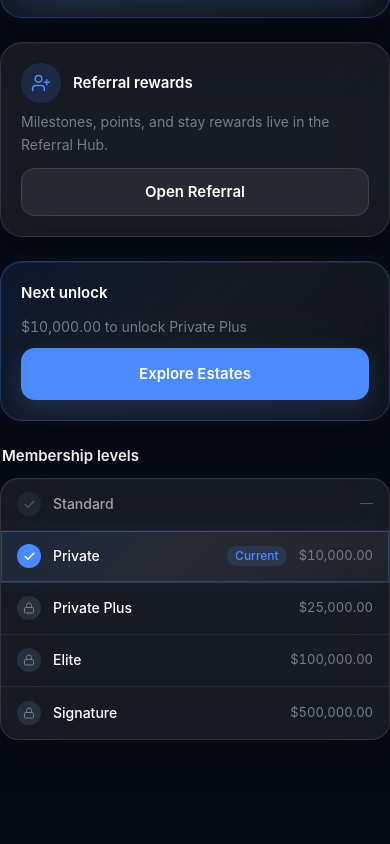
Club page › tier row opens the tier sheet with threshold and description
(page scrolled)
Step 1. Click the button with test id "club-tier" showing "Private Plus $25,000.00" → (92, 608), box [1, 583, 389, 635]
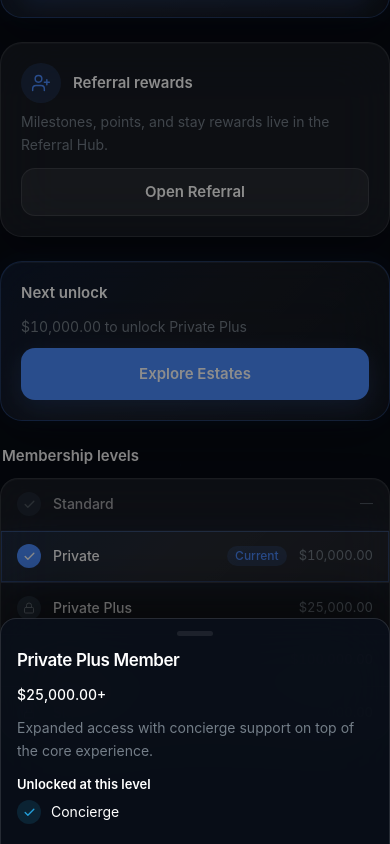
Now the dialog with test id "sheet-panel" shows "Private Plus Member", box [0, 618, 389, 843]
Now the dialog with test id "sheet-panel" shows "$25,000.00+", box [17, 686, 106, 703]
Now the dialog with test id "sheet-panel" shows "concierge", box [51, 803, 119, 820]
